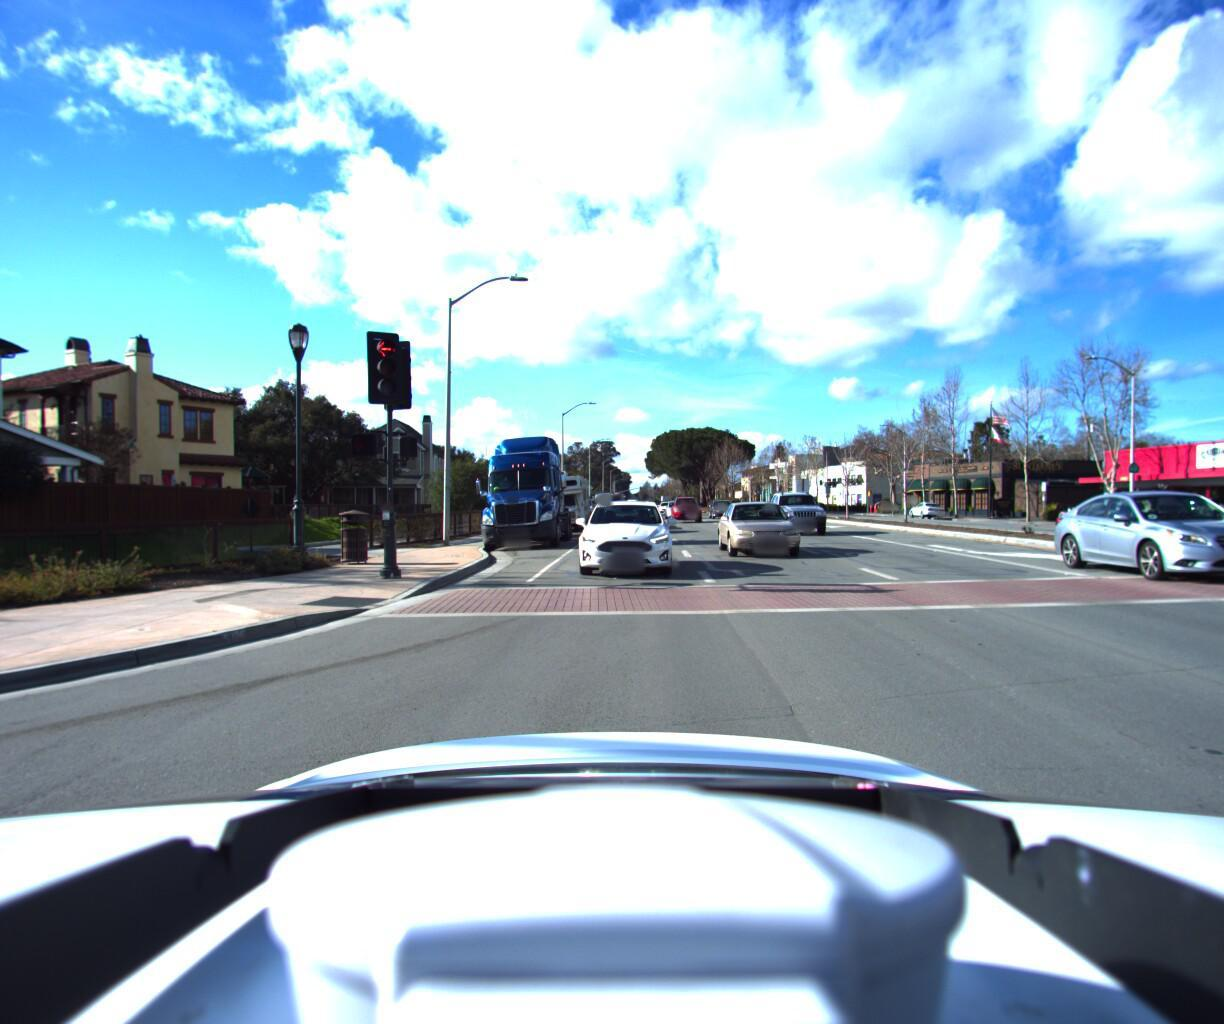bicycle: (1199, 503, 1221, 524), (1210, 503, 1224, 524)
car: (1039, 484, 1224, 583), (573, 499, 674, 582), (715, 495, 818, 566), (768, 489, 841, 539), (671, 498, 707, 526), (906, 502, 947, 523), (708, 499, 741, 523), (591, 496, 612, 519)
other_vehicle: (527, 469, 591, 536)
truck: (469, 425, 573, 553)
